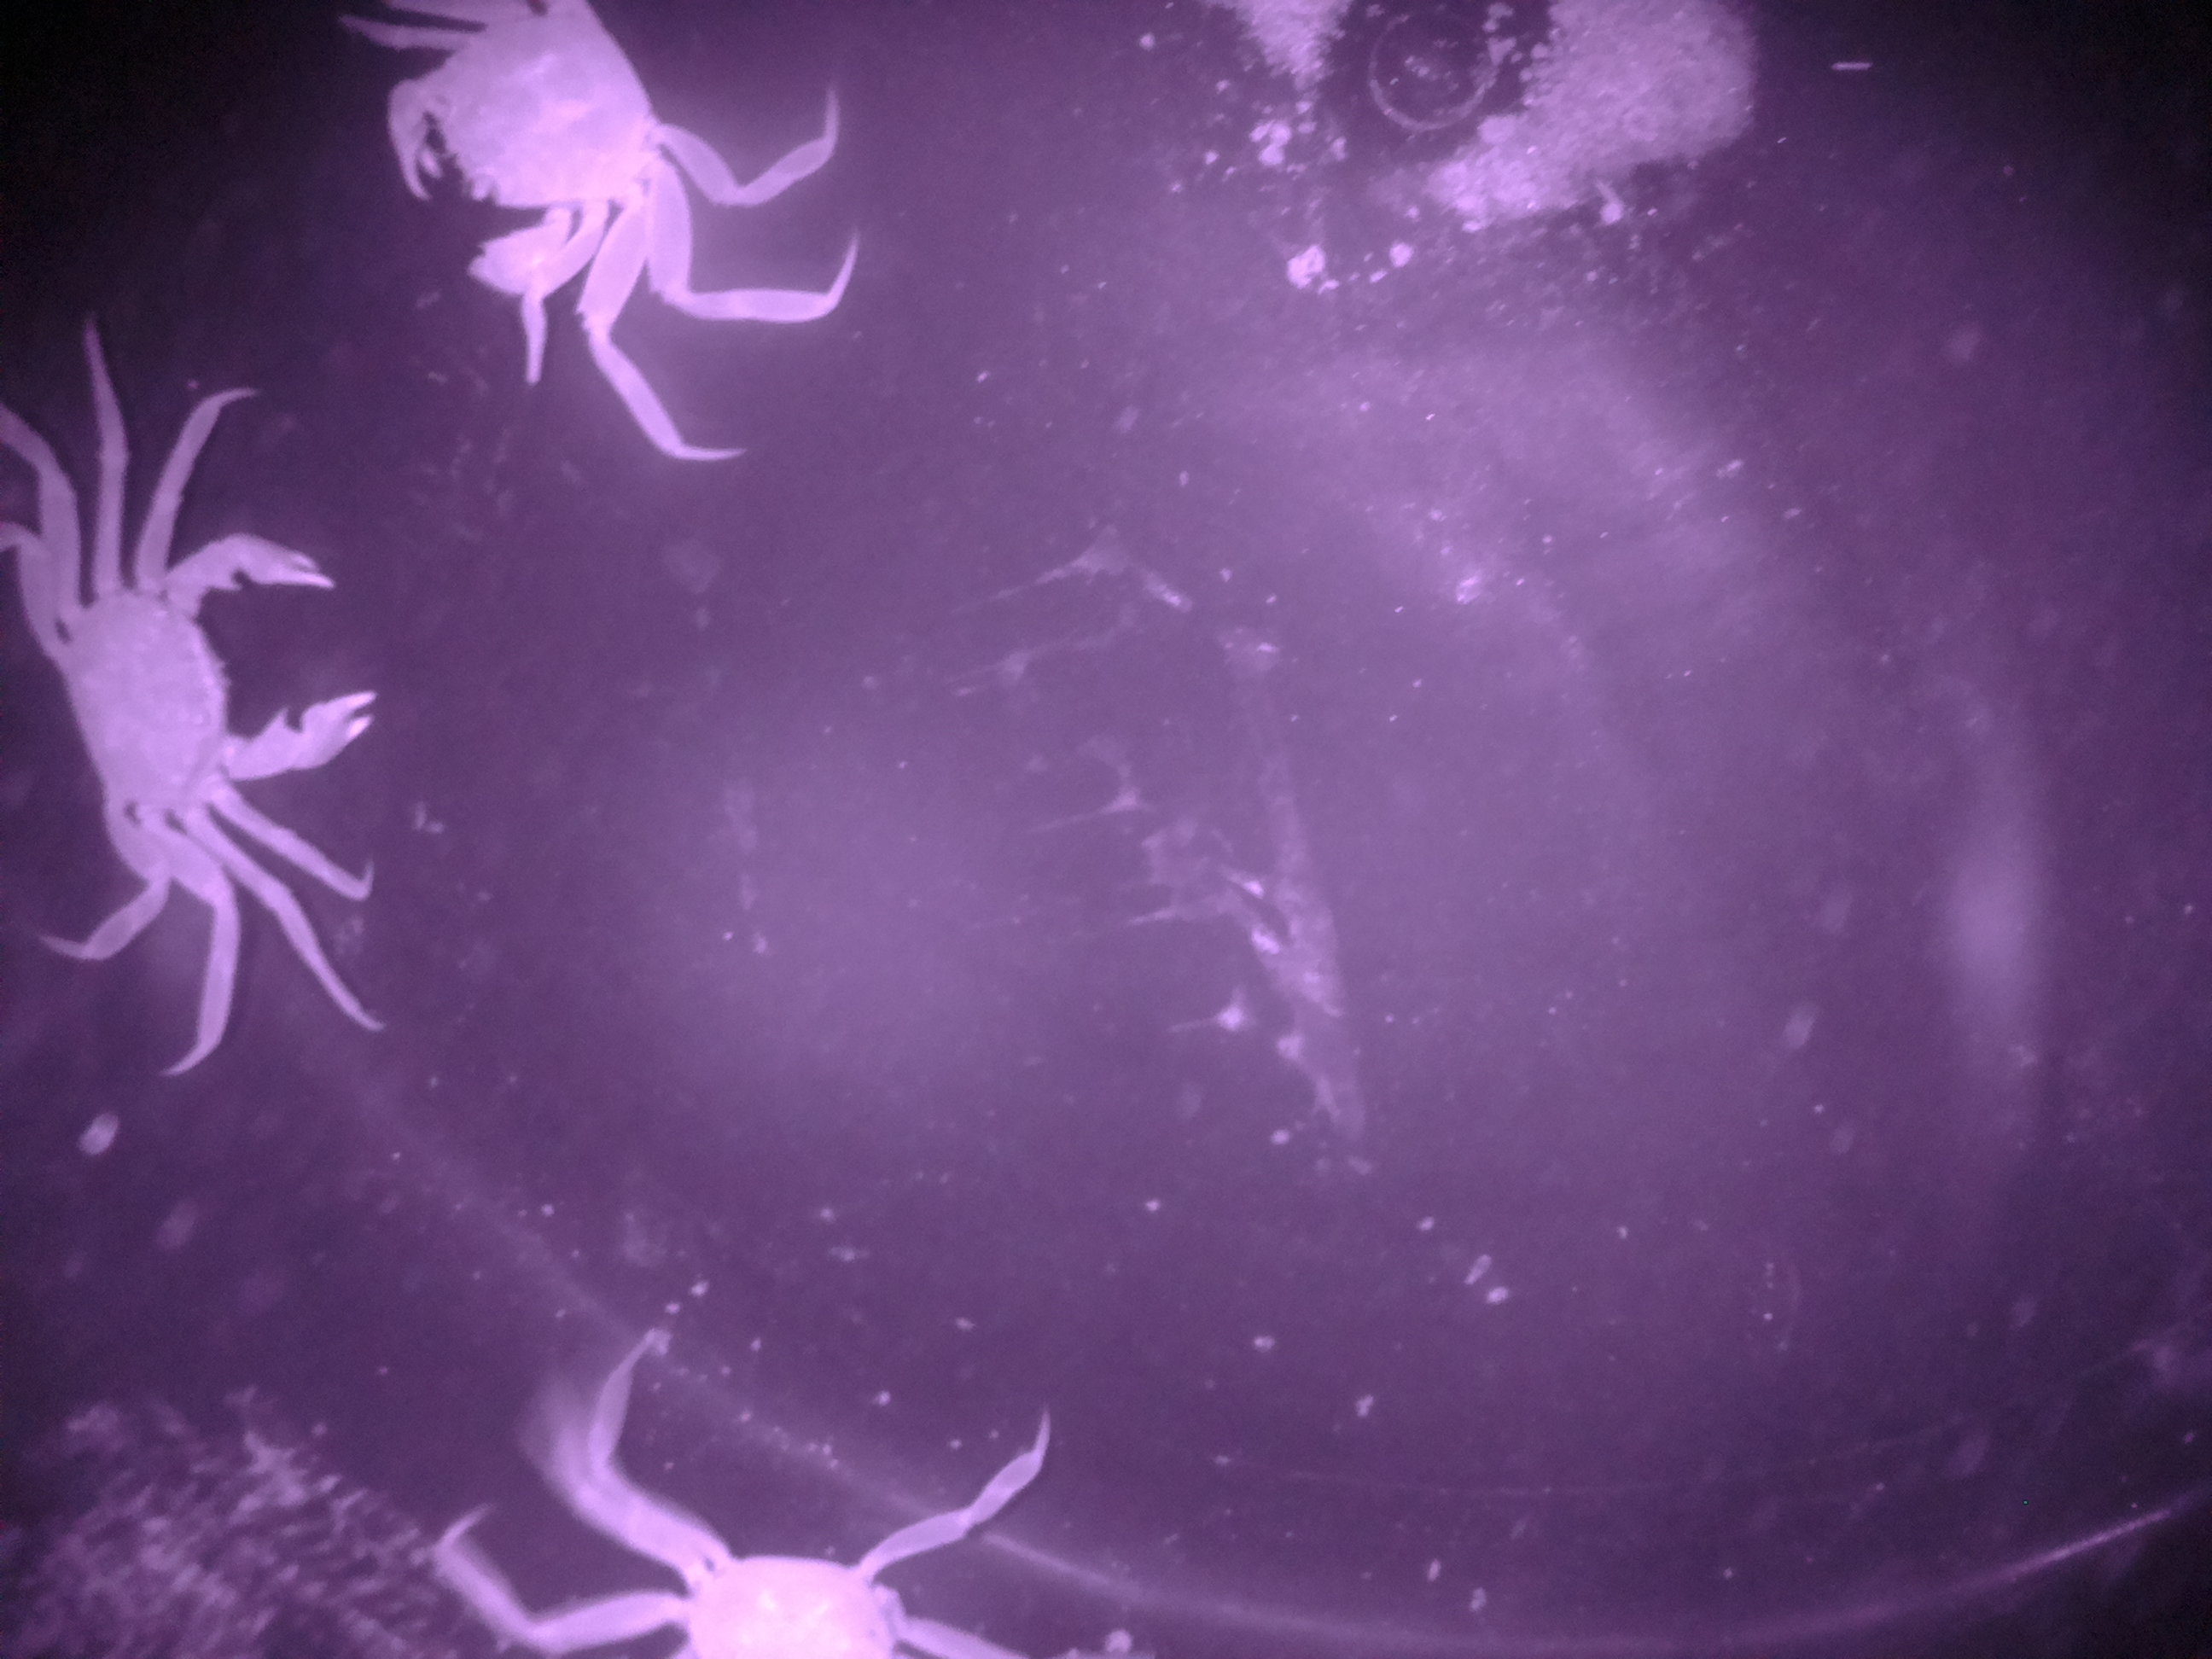Crab: (0, 471, 394, 899)
